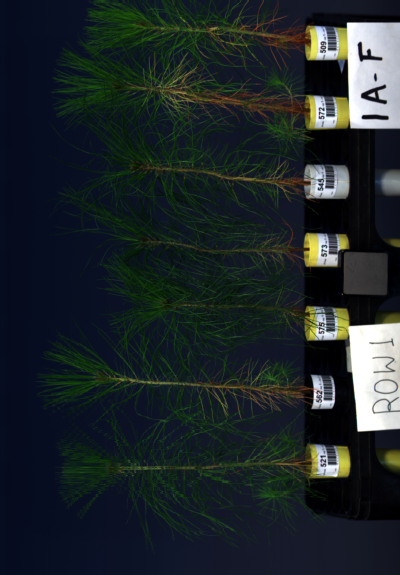tube: (302, 24, 347, 62), (302, 93, 347, 131), (304, 163, 349, 201), (302, 230, 347, 268), (303, 305, 348, 343), (302, 371, 347, 409), (306, 443, 351, 481)
